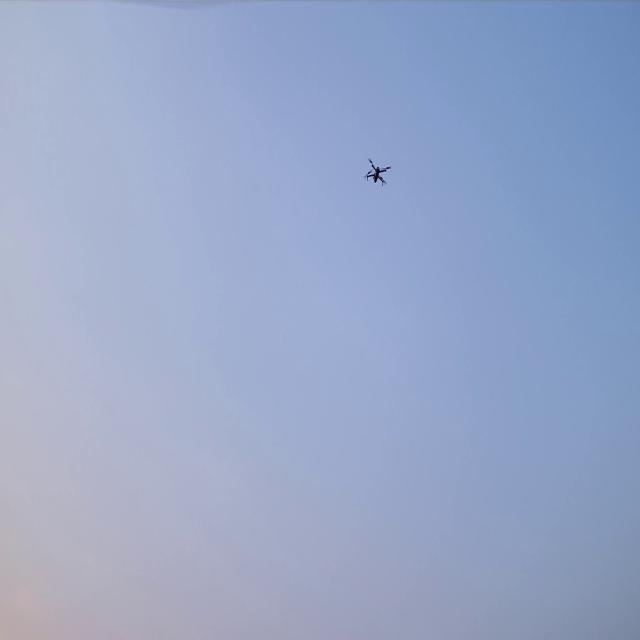UAV: (362, 157, 394, 188)
